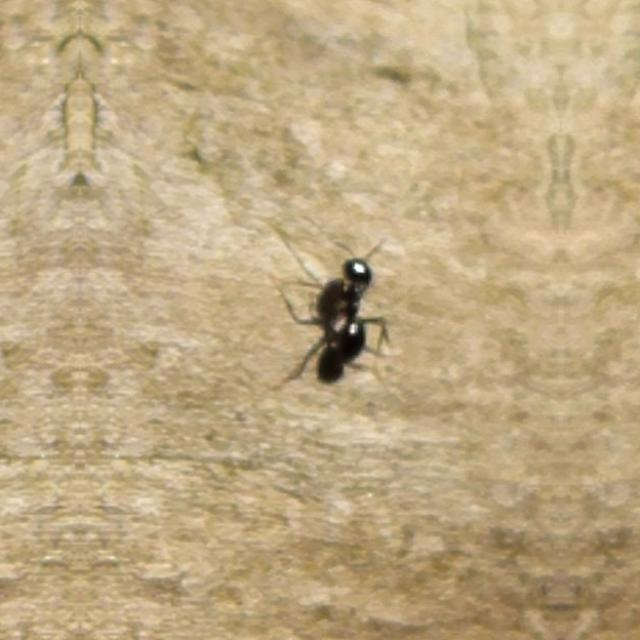Lasius: (298, 226, 382, 372)
